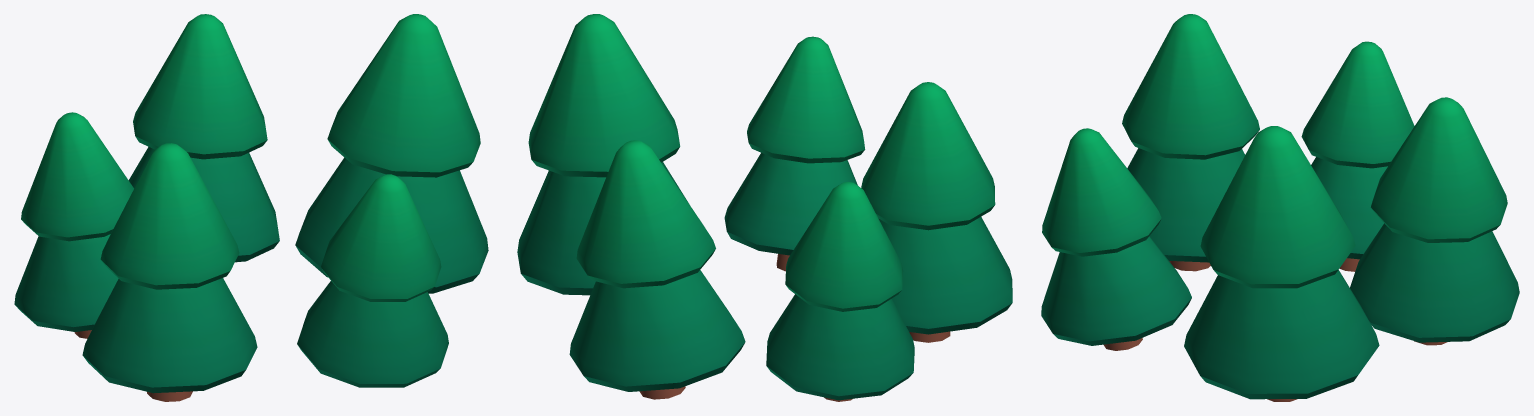
Rendered from trees_b_medium.glb.
3 renders of one model, left to right at view 1: azimuth 30°, elevation 25°; view 2: azimuth 150°, elevation 25°; view 3: azimuth 270°, elevation 25°, orthographic.
Parts seen in each view (by area): view 1: trees_B_medium; view 2: trees_B_medium; view 3: trees_B_medium.
Part boxes in pixels (x1,y1,x2,y2): trees_B_medium: (14, 14, 488, 401); trees_B_medium: (517, 14, 1012, 401); trees_B_medium: (1041, 14, 1519, 401).
Size of the model in its own units: 1.86 by 1.17 by 1.83.
1 material, 1 textured.
